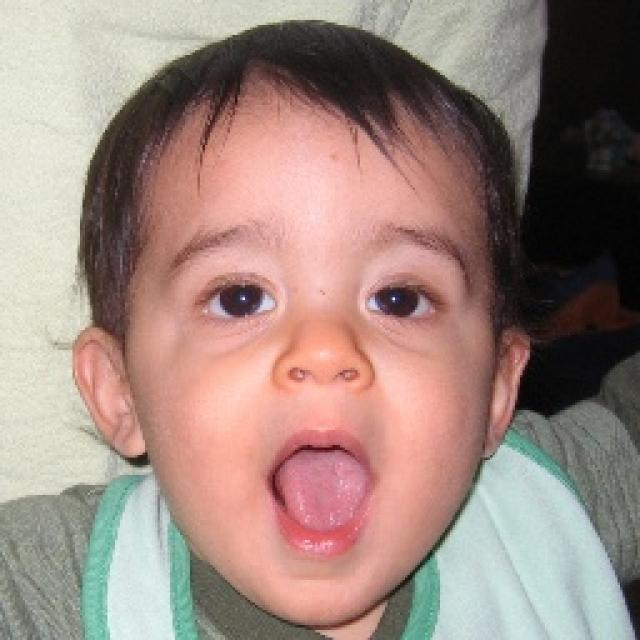earlobe: (114, 414, 148, 461), (476, 422, 502, 462)
eye: (362, 278, 442, 322), (200, 280, 277, 320)
nose: (268, 362, 380, 417)
wholeear: (72, 326, 150, 461), (476, 324, 532, 462)
